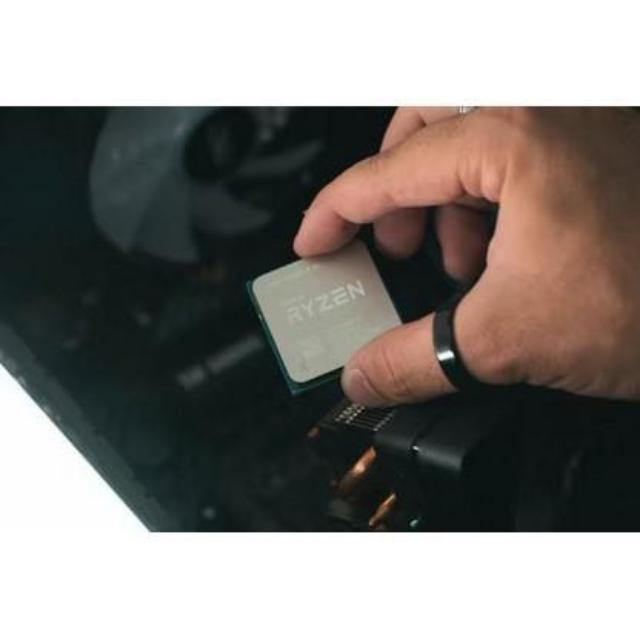CPU: (248, 240, 416, 389)
